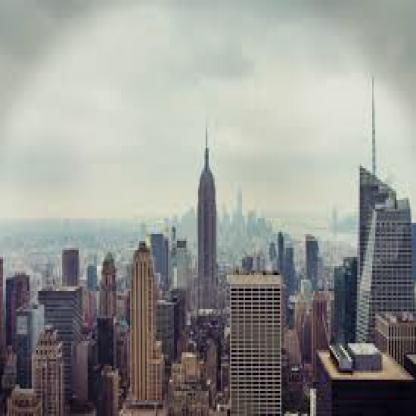Empire-State-building: (194, 123, 220, 308)
